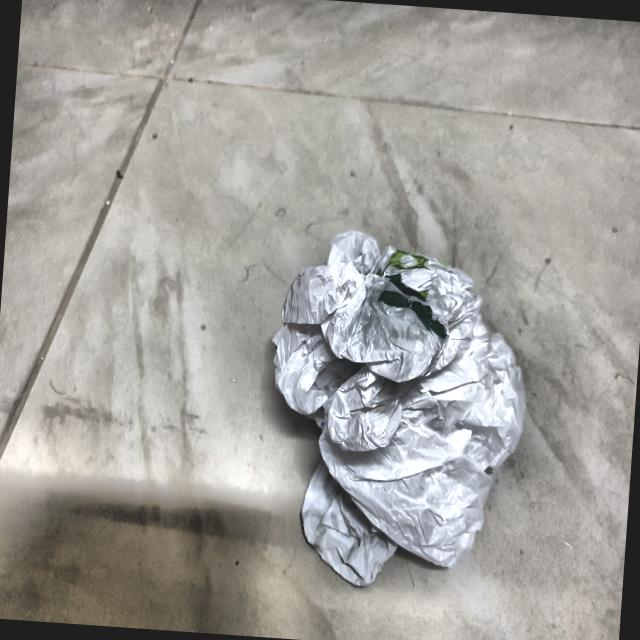plastic bag: (250, 218, 551, 606)
